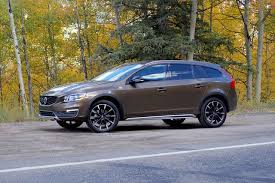car: (39, 59, 240, 131)
